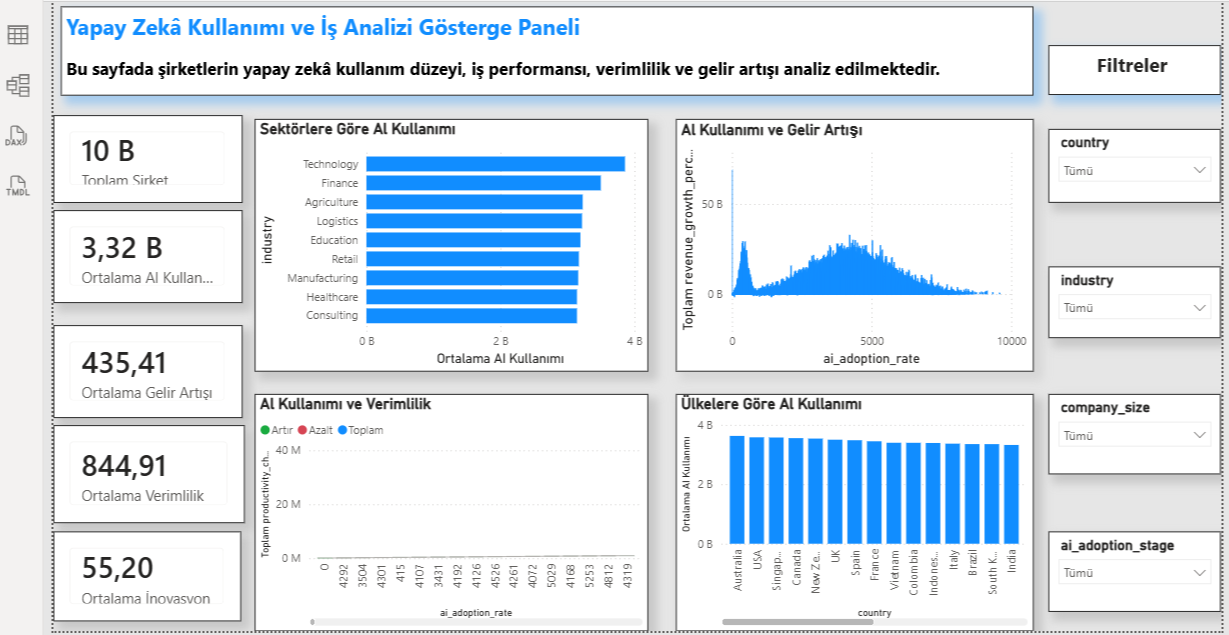

The page's visual inventory and layout, read from the dashboard file:
{"tool":"powerbi","page":{"name":"1. sayfa","canvas":[1280,720],"ordinal":0},"visuals":[{"type":"cardVisual","fields":{"Data":["ai_company_adoption.Toplam Şirket"]},"box":[0,154.8,206.8,95.9],"z":0},{"type":"cardVisual","fields":{"Data":["ai_company_adoption.Ortalama AI Kullanımı"]},"box":[0,258.9,206.8,101.4],"z":1000},{"type":"cardVisual","fields":{"Data":["ai_company_adoption.Ortalama Gelir Artışı"]},"box":[0,384.9,206.8,101.4],"z":2000},{"type":"cardVisual","fields":{"Data":["ai_company_adoption.Ortalama Verimlilik"]},"box":[0,494.5,209.6,106.8],"z":3000},{"type":"cardVisual","fields":{"Data":["ai_company_adoption.Ortalama İnovasyon"]},"box":[0,611,205.5,98.6],"z":4000},{"type":"clusteredBarChart","title":"Sektörlere Göre Al Kullanımı","fields":{"Category":["ai_company_adoption.industry"],"Y":["ai_company_adoption.Ortalama AI Kullanımı"]},"box":[220.5,158.9,431.5,276.7],"z":5000},{"type":"clusteredColumnChart","title":"Ülkelere Göre Al Kullanımı","fields":{"Category":["ai_company_adoption.country"],"Y":["ai_company_adoption.Ortalama AI Kullanımı"]},"box":[682.2,460.3,391.8,260.3],"z":6000},{"type":"clusteredColumnChart","title":"Al Kullanımı ve Gelir Artışı","fields":{"Y":["Sum(ai_company_adoption.revenue_growth_percent)"],"Category":["ai_company_adoption.ai_adoption_rate"]},"box":[682.2,158.9,391.8,276.7],"z":7000},{"type":"waterfallChart","title":"Al Kullanımı ve Verimlilik","fields":{"Category":["ai_company_adoption.ai_adoption_rate"],"Y":["Sum(ai_company_adoption.productivity_change_percent)"]},"box":[220.5,460.3,431.5,260.3],"z":8000},{"type":"slicer","fields":{"Values":["ai_company_adoption.country"]},"box":[1090.4,169.9,189,80.8],"z":9000},{"type":"slicer","fields":{"Values":["ai_company_adoption.industry"]},"box":[1090.4,320.5,189,78.1],"z":10000},{"type":"slicer","fields":{"Values":["ai_company_adoption.company_size"]},"box":[1090.4,460.3,189,87.7],"z":11000},{"type":"slicer","fields":{"Values":["ai_company_adoption.ai_adoption_stage"]},"box":[1090.4,611,189,87.7],"z":12000},{"type":"textbox","box":[8.2,35.6,1065.8,97.3],"z":13000},{"type":"textbox","box":[1090.4,78.1,189,54.8],"z":14000}]}

Visuals, with their boxes on the page's 1280x720 design canvas (x1, y1, x2, y2). These are canvas units, not pixel positions in the 1229x635 screenshot, which may show the page scaled, cropped or inside an application window:
cardVisual - ai_company_adoption.Toplam Şirket: bbox(0, 155, 207, 251)
cardVisual - ai_company_adoption.Ortalama AI Kullanımı: bbox(0, 259, 207, 360)
cardVisual - ai_company_adoption.Ortalama Gelir Artışı: bbox(0, 385, 207, 486)
cardVisual - ai_company_adoption.Ortalama Verimlilik: bbox(0, 494, 210, 601)
cardVisual - ai_company_adoption.Ortalama İnovasyon: bbox(0, 611, 206, 710)
"Sektörlere Göre Al Kullanımı" clusteredBarChart: bbox(220, 159, 652, 436)
"Ülkelere Göre Al Kullanımı" clusteredColumnChart: bbox(682, 460, 1074, 721)
"Al Kullanımı ve Gelir Artışı" clusteredColumnChart: bbox(682, 159, 1074, 436)
"Al Kullanımı ve Verimlilik" waterfallChart: bbox(220, 460, 652, 721)
slicer - ai_company_adoption.country: bbox(1090, 170, 1279, 251)
slicer - ai_company_adoption.industry: bbox(1090, 320, 1279, 399)
slicer - ai_company_adoption.company_size: bbox(1090, 460, 1279, 548)
slicer - ai_company_adoption.ai_adoption_stage: bbox(1090, 611, 1279, 699)
textbox: bbox(8, 36, 1074, 133)
textbox: bbox(1090, 78, 1279, 133)
